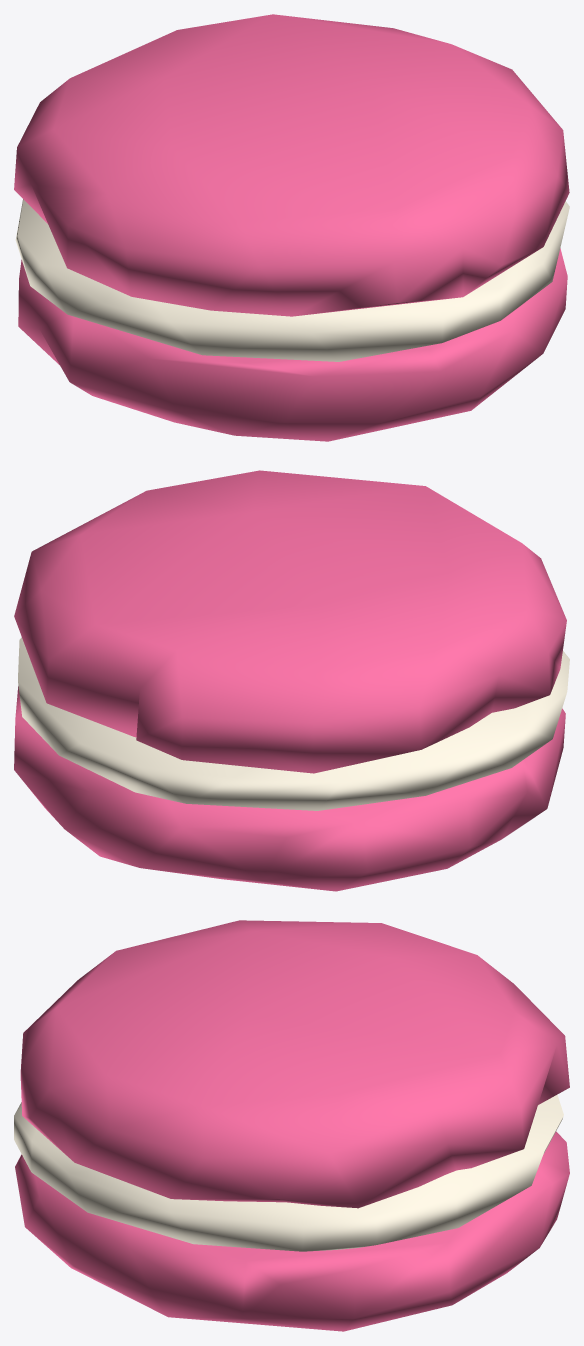
The model's file is macaron_LOD1.fbx.
3 renders of one model, top to bottom at view 1: azimuth 30°, elevation 25°; view 2: azimuth 150°, elevation 25°; view 3: azimuth 270°, elevation 25°, orthographic. The views are drawn at different scales.
Visible parts, largest first — view 1: Cube_008; view 2: Cube_008; view 3: Cube_008.
Boxes of the visible parts, x1,y1,x2,y2 form: Cube_008: [14, 14, 569, 441]; Cube_008: [14, 470, 569, 891]; Cube_008: [14, 920, 569, 1331].
Size of the model in its own units: 21.29 by 11.61 by 21.39.
Materials: 2 (2 with a texture image).
